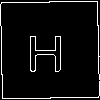H: (25, 25, 65, 73)
